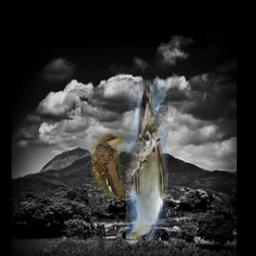Cuckoo: (126, 35, 168, 243), (91, 133, 127, 198)
